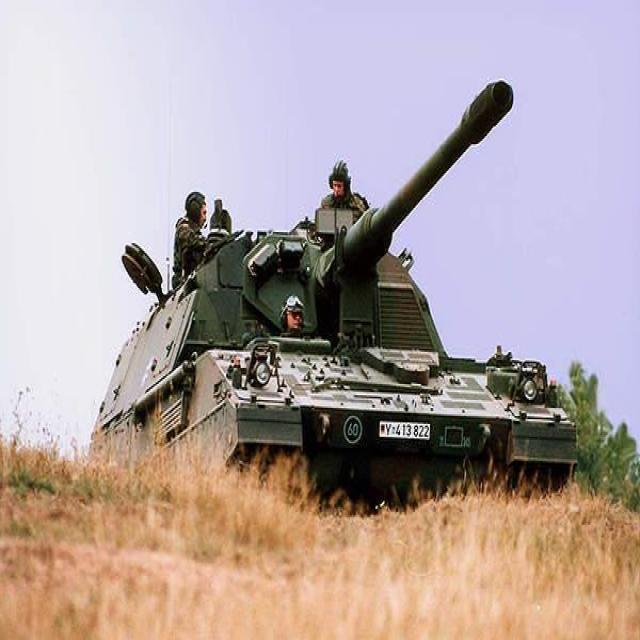MIL_MBT: (108, 173, 559, 514)
